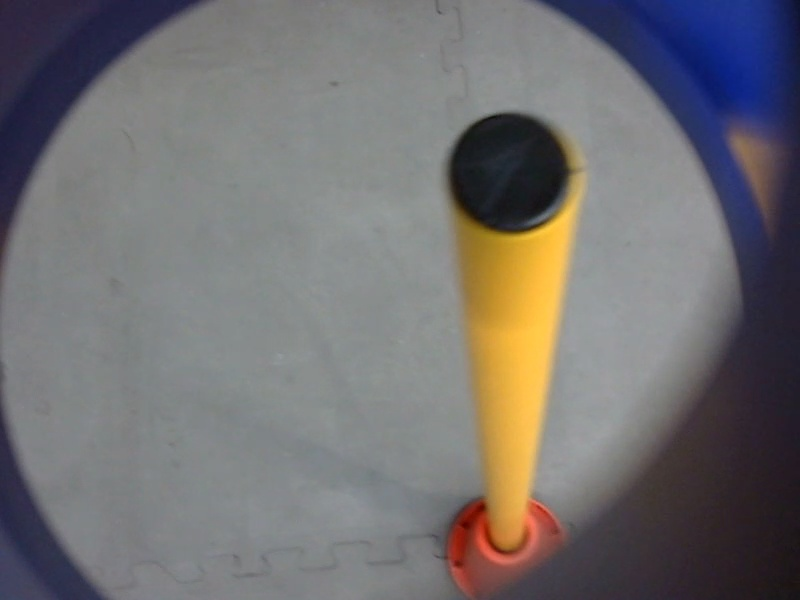tip: (439, 100, 592, 246)
